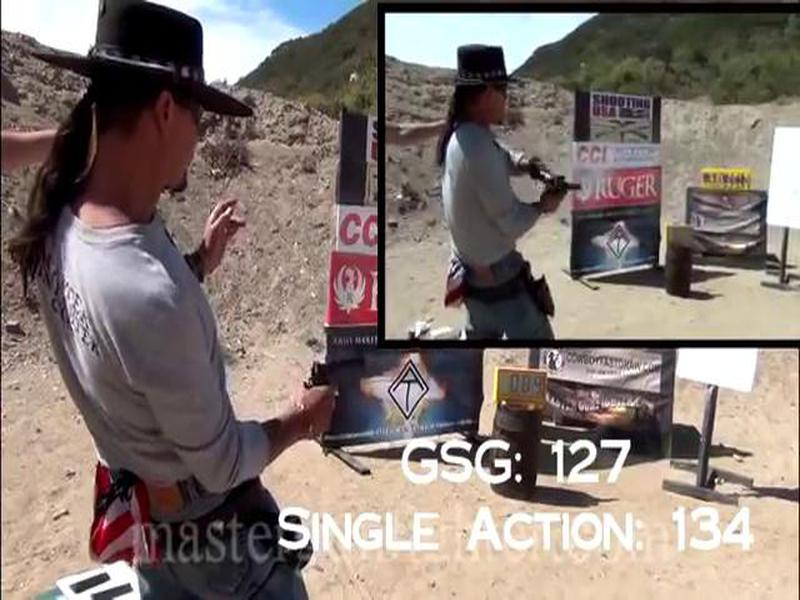Pistola: (292, 348, 380, 431)
